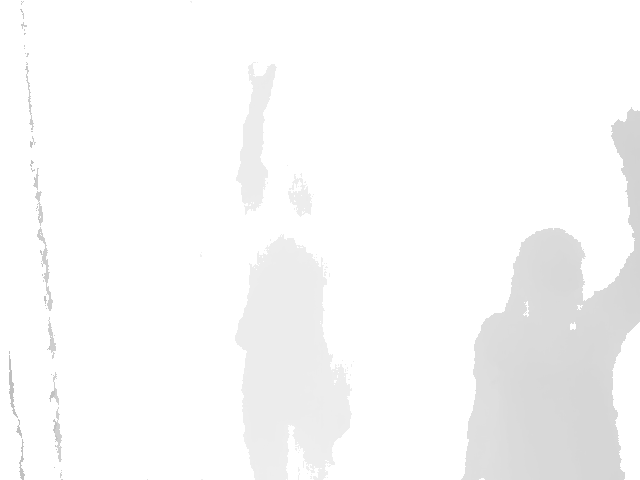hand: (610, 108, 640, 159), (247, 60, 277, 100)
head: (504, 228, 587, 334)
person: (456, 108, 640, 480), (233, 60, 353, 479)
